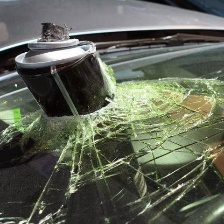aerosol_cans: (8, 16, 154, 224)
